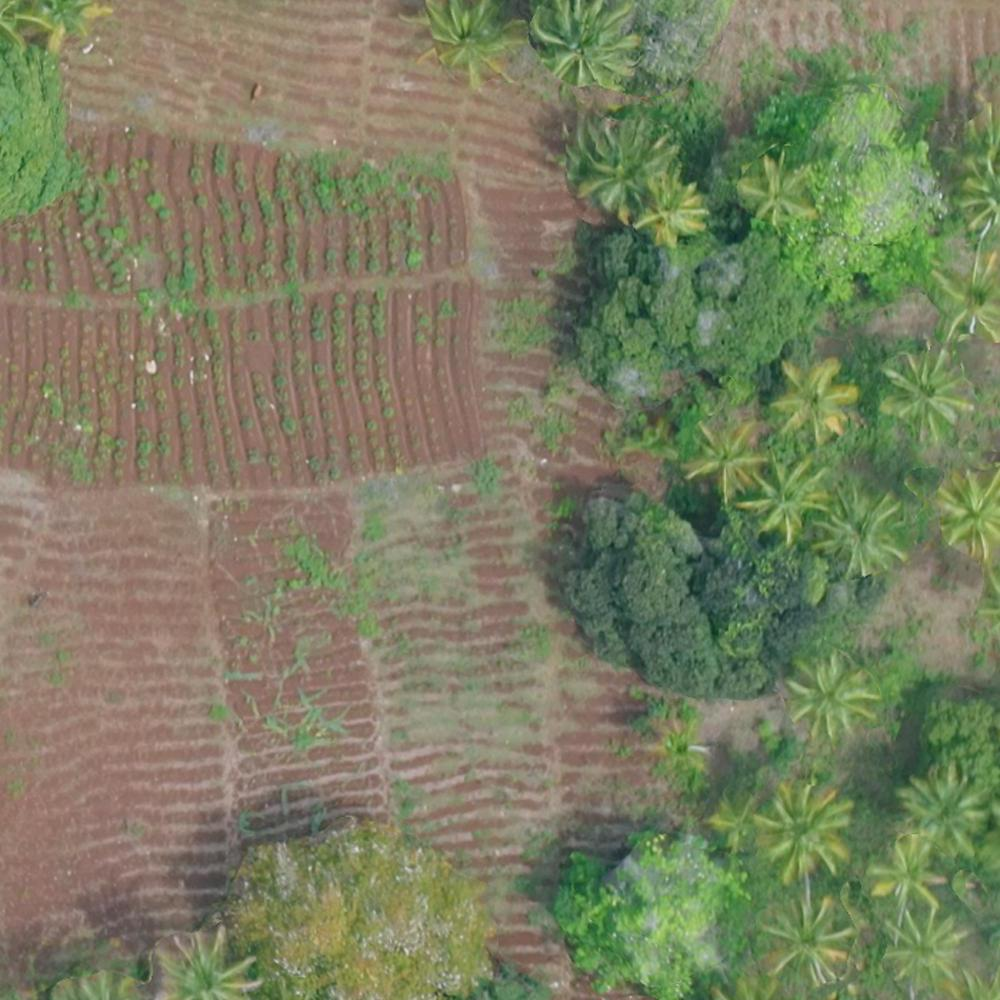Palm: (563, 111, 670, 208), (536, 1, 642, 94), (761, 784, 855, 875), (153, 926, 263, 1000), (423, 1, 514, 90), (814, 488, 904, 574), (896, 772, 981, 862), (784, 651, 875, 735), (761, 898, 852, 981), (877, 909, 965, 989), (771, 362, 862, 439), (878, 355, 966, 434), (746, 460, 830, 540), (865, 836, 948, 915), (681, 418, 764, 494), (933, 256, 1000, 341), (933, 466, 996, 552), (633, 178, 707, 242), (737, 158, 807, 223), (647, 716, 710, 779)
